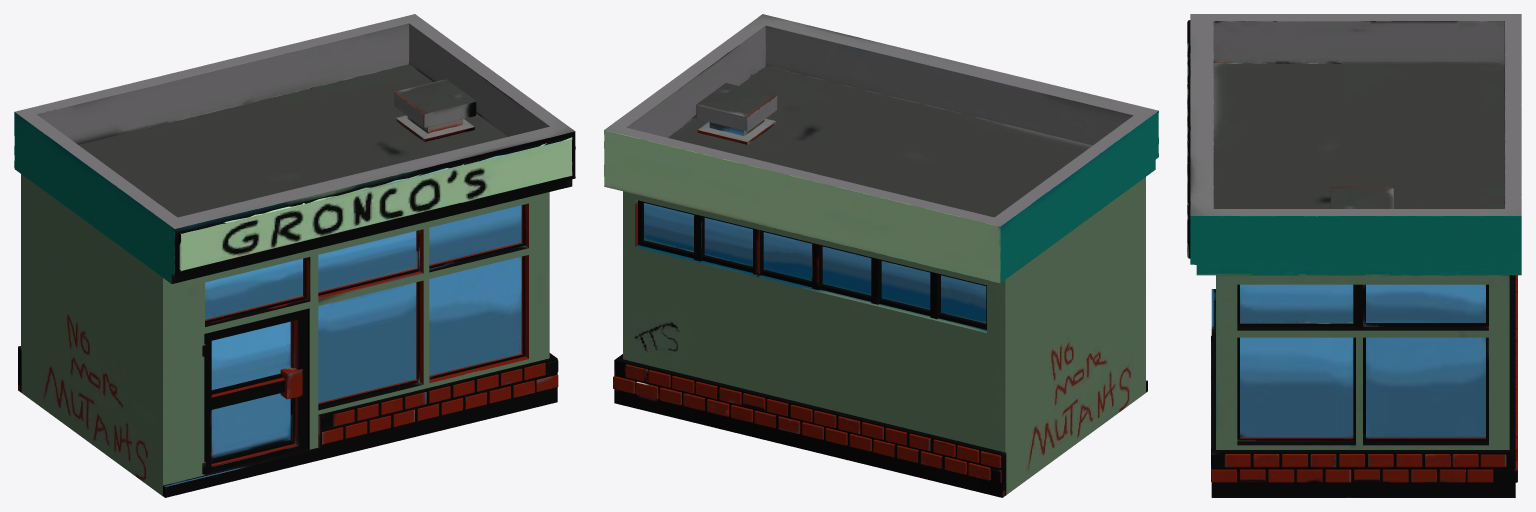
Rendered from convenience-store-size-3.glb.
3 views of the same model, side by side, from view 1: azimuth 30°, elevation 25°; view 2: azimuth 150°, elevation 25°; view 3: azimuth 270°, elevation 25° (orthographic). The views are drawn at different scales.
Visible parts, largest first — view 1: default; view 2: default; view 3: default.
Part boxes in pixels (x1,y1,x2,y2): default: (14, 14, 575, 497); default: (604, 14, 1158, 497); default: (1187, 14, 1521, 497).
Size of the model in its own units: 0.57 by 0.376 by 0.3988.
Materials: 1 (1 with a texture image).
